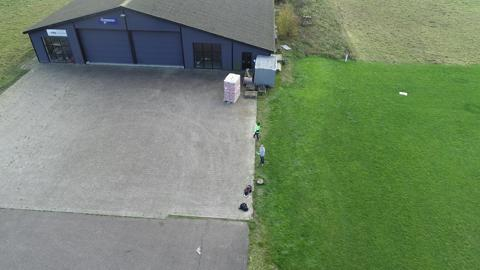RockwoolPallet: (224, 72, 240, 104)
